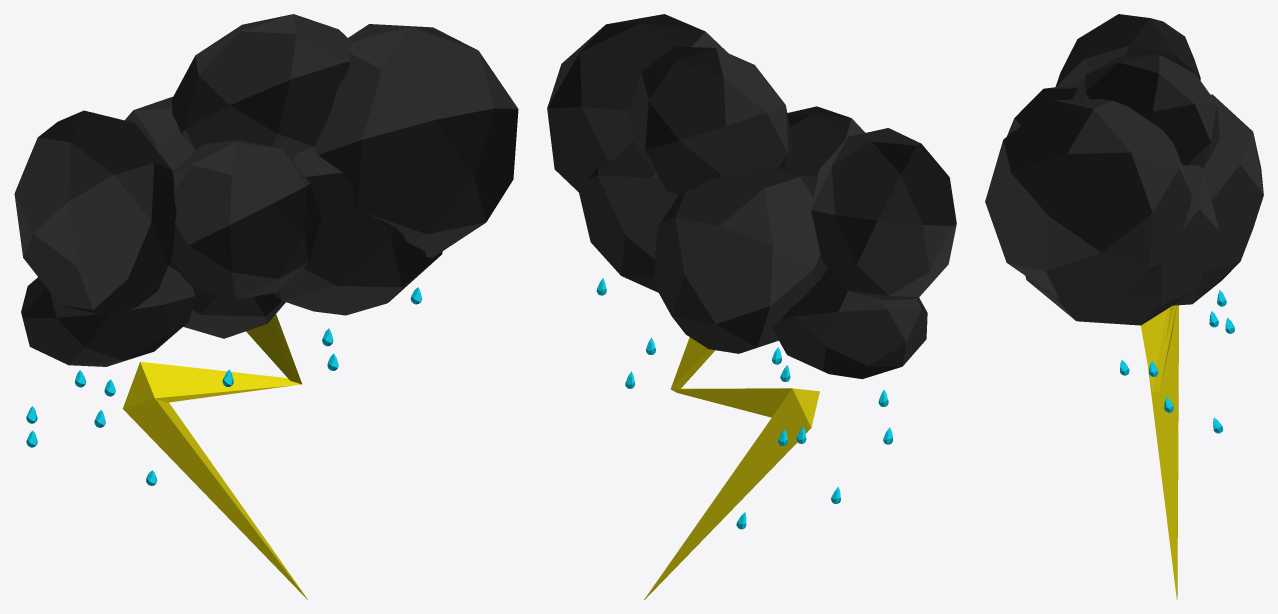
The model's file is ira Rayo.fbx.
3 views of the same model, side by side, from view 1: azimuth 30°, elevation 25°; view 2: azimuth 150°, elevation 25°; view 3: azimuth 270°, elevation 25° (orthographic). The views are drawn at different scales.
Parts seen in each view (by area): view 1: polySurface18; view 2: polySurface18; view 3: polySurface18.
Part boxes in pixels (x1,y1,x2,y2): polySurface18: [14, 14, 518, 599]; polySurface18: [547, 14, 956, 599]; polySurface18: [985, 14, 1263, 599].
Bounding box in the file's own units: 1.08 × 1.36 × 0.6652.
